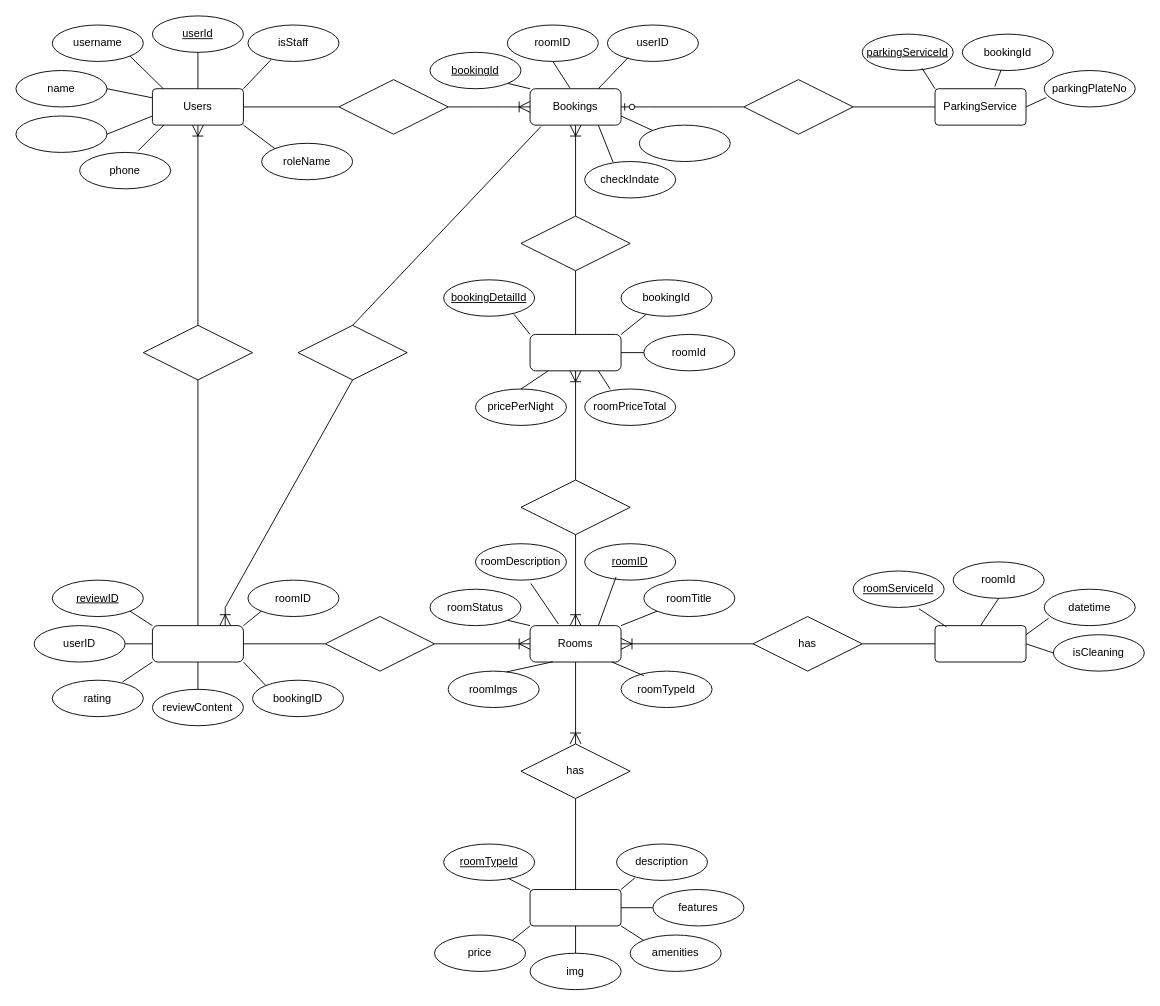
Image size: 1160x1006. Some labels were removed from this diagram. The box of each missing label's shape, as (x1, y1, x2, y2) in pixels:
assigned to: (520, 479, 630, 535)
belongs to: (743, 79, 853, 134)
BookingDetails: (529, 334, 621, 371)
checkOutDate: (638, 124, 730, 162)
email: (15, 115, 107, 152)
for: (297, 324, 407, 380)
includes: (520, 215, 630, 271)
made: (338, 79, 448, 134)
review in: (324, 616, 435, 671)
Reviews: (152, 625, 243, 662)
RoomService: (934, 625, 1026, 662)
RoomType: (529, 889, 621, 926)
wrote: (142, 324, 253, 380)
